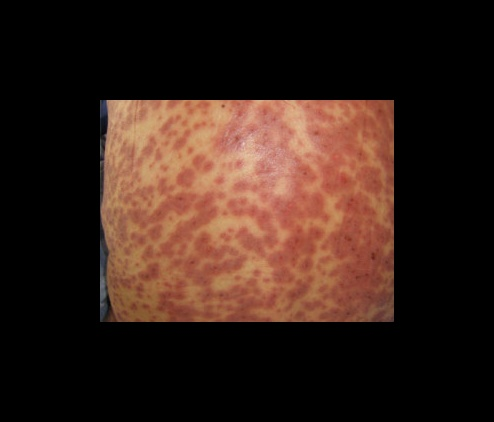SJS-TEN: (101, 98, 399, 331)
